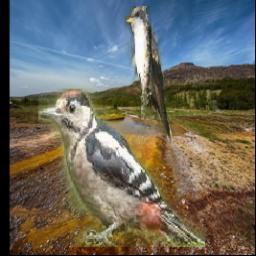Cuckoo: (126, 6, 175, 143)
Woodpecker: (38, 90, 205, 248)
